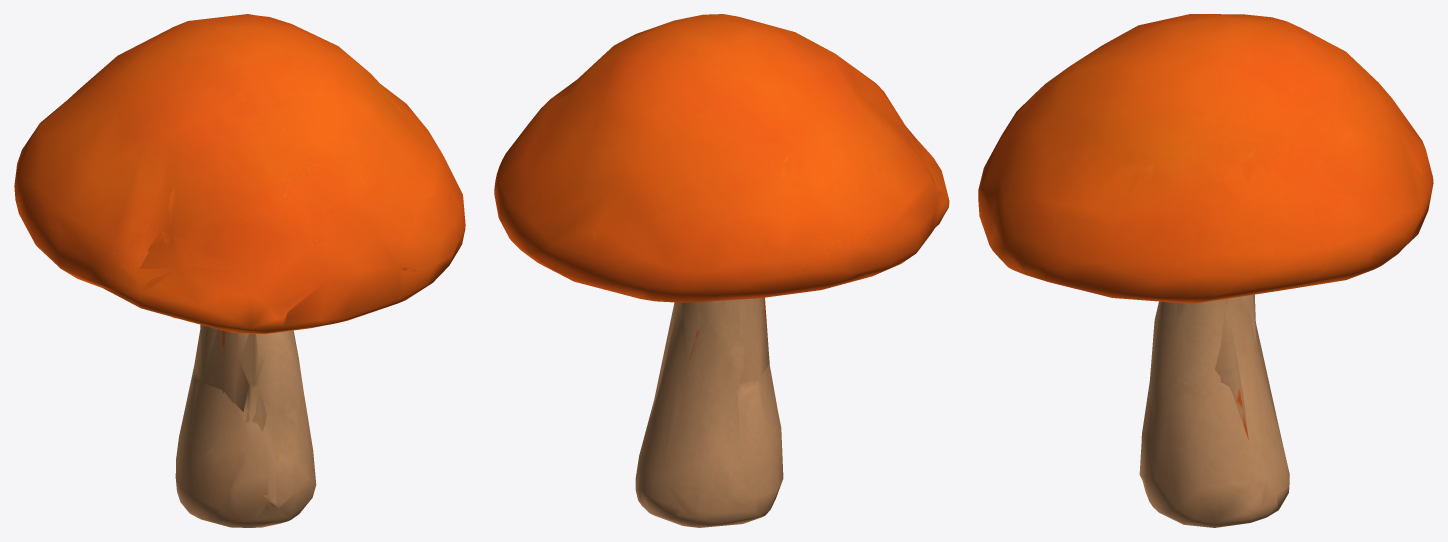
Rendered from cave-mushroom-dome.glb.
3 renders of one model, left to right at view 1: azimuth 30°, elevation 25°; view 2: azimuth 150°, elevation 25°; view 3: azimuth 270°, elevation 25°, orthographic.
Parts seen in each view (by area): view 1: cave-mushroom-dome, coarse; view 2: cave-mushroom-dome, coarse; view 3: cave-mushroom-dome, coarse.
Part boxes in pixels (x1=…): cave-mushroom-dome: x1=14, y1=14, x2=465, y2=527; coarse: x1=47, y1=90, x2=435, y2=510; cave-mushroom-dome: x1=494, y1=14, x2=949, y2=527; coarse: x1=556, y1=36, x2=946, y2=419; cave-mushroom-dome: x1=978, y1=14, x2=1433, y2=527; coarse: x1=997, y1=25, x2=1266, y2=439.
Size of the model in its own units: 0.8384 by 0.9976 by 0.8604.
1 material, 1 textured.
